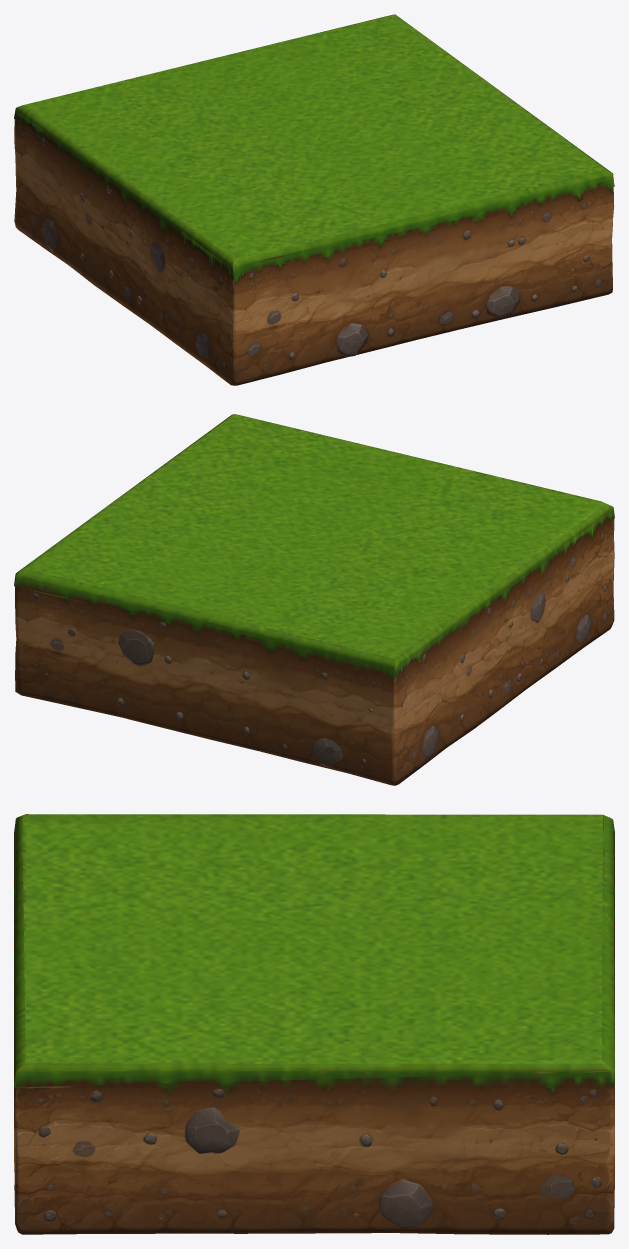
The model's file is Meshy_AI__1025134850_texture.glb.
3 renders of one model, top to bottom at view 1: azimuth 30°, elevation 25°; view 2: azimuth 150°, elevation 25°; view 3: azimuth 270°, elevation 25°, orthographic. The views are drawn at different scales.
Bounding box in the file's own units: 3.15 × 1 × 3.15.
1 material, 1 textured.
